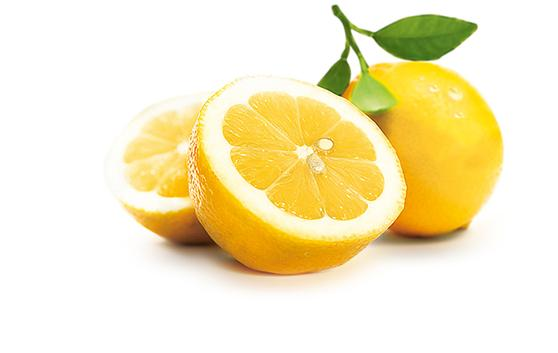lemon: (332, 51, 505, 242)
